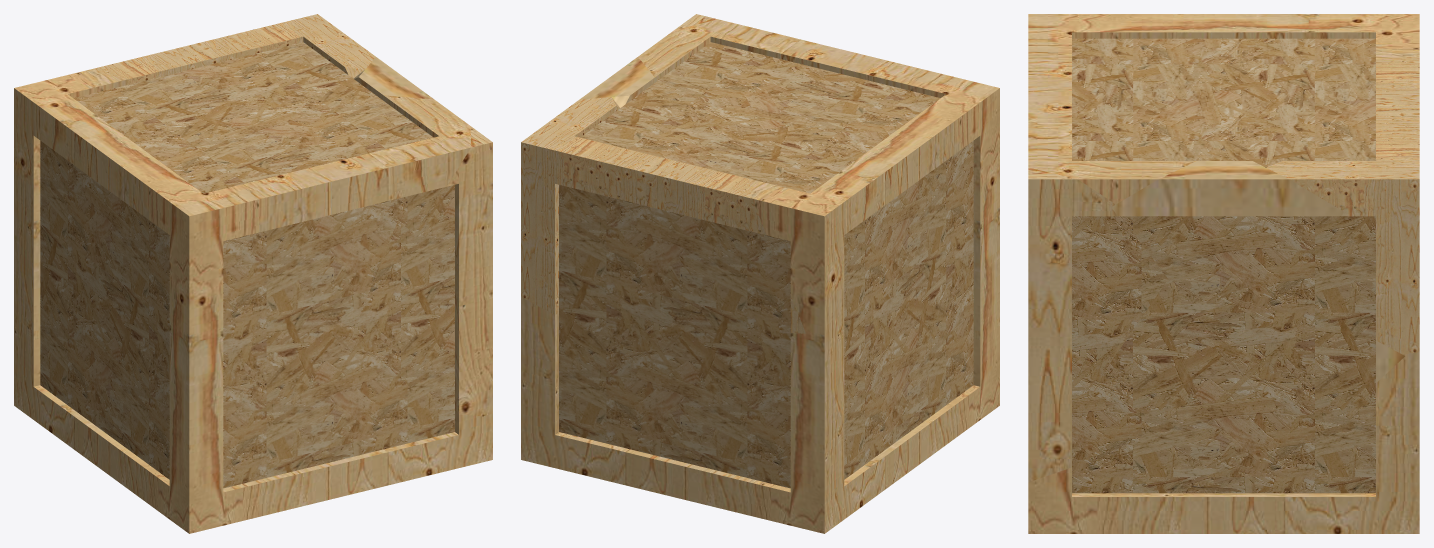
File: PlyBox.fbx
3 renders of one model, left to right at view 1: azimuth 30°, elevation 25°; view 2: azimuth 150°, elevation 25°; view 3: azimuth 270°, elevation 25°, orthographic. The views are drawn at different scales.
Visible parts, largest first — view 1: parts.007, parts.008, parts.006, parts.004, parts, parts.002, parts.009, parts.001; view 2: parts.002, parts.006, parts.007, parts.004, parts.003, parts.005, parts.008, parts.001; view 3: parts.001, parts.004, parts, parts.002, parts.005, parts.009, parts.007, parts.003, parts.006.
Part boxes in pixels (<box>): parts.007: <box>95,136,397,403</box>; parts.008: <box>80,245,415,533</box>; parts.006: <box>14,70,157,479</box>; parts.004: <box>100,66,470,233</box>; parts: <box>352,126,492,416</box>; parts.002: <box>87,14,375,106</box>; parts.009: <box>363,407,492,491</box>; parts.001: <box>337,57,433,103</box>; parts.002: <box>521,97,805,383</box>; parts.006: <box>730,153,926,533</box>; parts.007: <box>783,50,999,344</box>; parts.004: <box>620,19,938,173</box>; parts.003: <box>521,297,806,467</box>; parts.005: <box>521,397,757,517</box>; parts.008: <box>877,264,999,459</box>; parts.001: <box>580,57,675,107</box>; parts.001: <box>1103,148,1404,470</box>; parts.004: <box>1028,14,1342,203</box>; parts: <box>1028,167,1167,482</box>; parts.002: <box>1266,53,1419,354</box>; parts.005: <box>1191,443,1419,533</box>; parts.009: <box>1028,435,1219,533</box>; parts.007: <box>1028,14,1176,106</box>; parts.003: <box>1303,352,1419,486</box>; parts.006: <box>1227,14,1419,79</box>.
Size of the model in its own units: 71.77 by 71.77 by 71.77.
